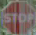Stop: (1, 7, 35, 30)
